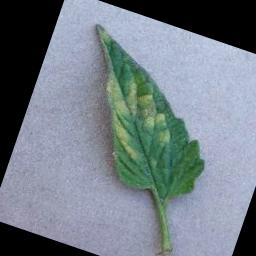Leaf_Mold: (86, 71, 185, 169)
